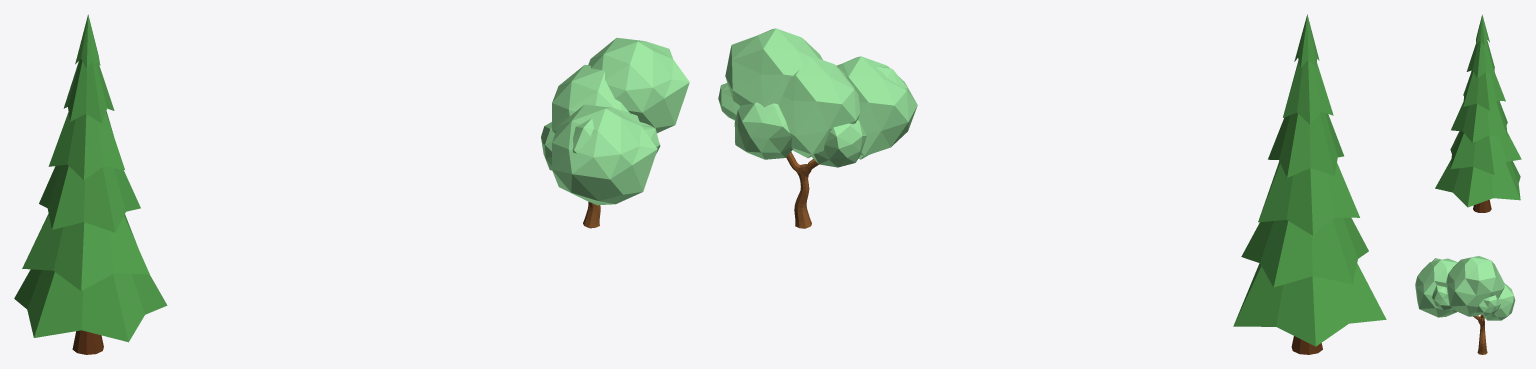
Rendered from Trees.fbx.
3 renders of one model, left to right at view 1: azimuth 30°, elevation 25°; view 2: azimuth 150°, elevation 25°; view 3: azimuth 270°, elevation 25°, orthographic. The views are drawn at different scales.
Parts seen in each view (by area): view 1: Cylinder.001, Icosphere; view 2: Cylinder.001, Icosphere, Plane; view 3: Cylinder.001, Icosphere, Plane.
Part boxes in pixels (box(x1,y1,x2,y2)): Cylinder.001: box(14, 14, 167, 354); Icosphere: box(541, 37, 689, 205); Cylinder.001: box(1233, 14, 1386, 354); Icosphere: box(718, 28, 917, 167); Plane: box(786, 152, 818, 228); Cylinder.001: box(1435, 14, 1521, 212); Icosphere: box(1415, 256, 1515, 320); Plane: box(1473, 315, 1487, 354).
Bounding box in the file's own units: 154498 × 76269 × 37656.
